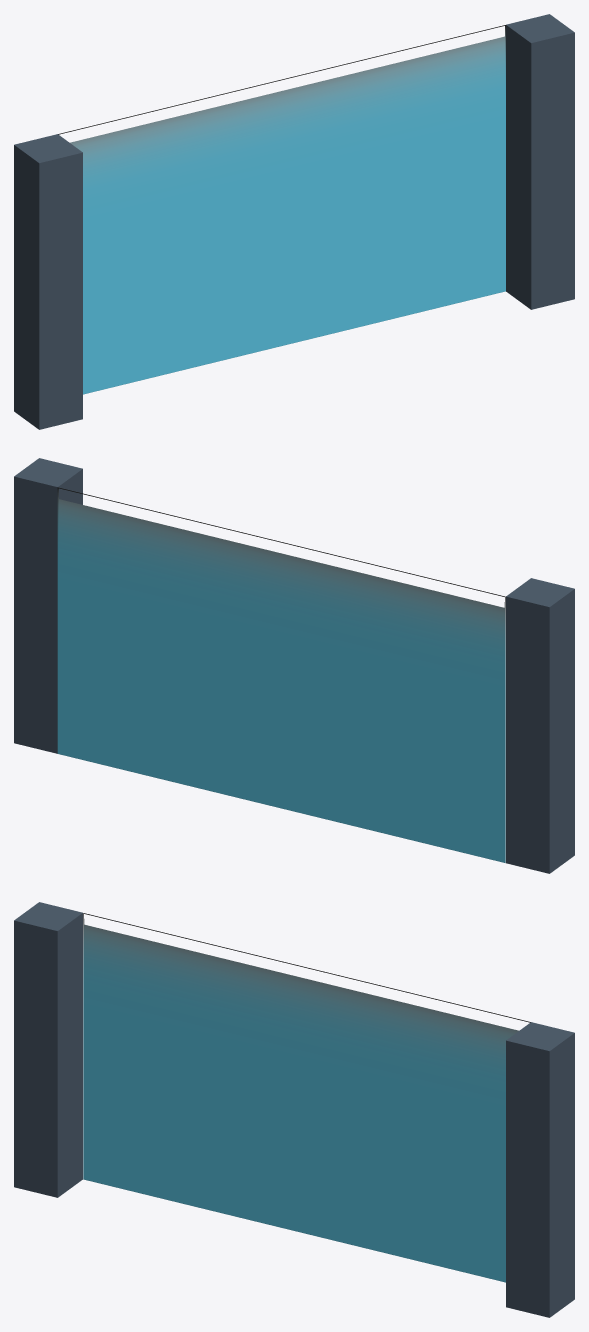
File: gate-one (2).fbx
3 views of the same model, one above another, from view 1: azimuth 30°, elevation 25°; view 2: azimuth 150°, elevation 25°; view 3: azimuth 330°, elevation 25° (orthographic).
Parts seen in each view (by area): view 1: gate-image; view 2: gate-image; view 3: gate-image.
Boxes of the visible parts, box(x1,y1,x2,y2) form: gate-image: box(14, 14, 574, 429); gate-image: box(14, 458, 574, 873); gate-image: box(14, 902, 574, 1317).
Size of the model in its own units: 0.9429 by 0.4486 by 0.0771.
Materials: 2 (1 with a texture image).
